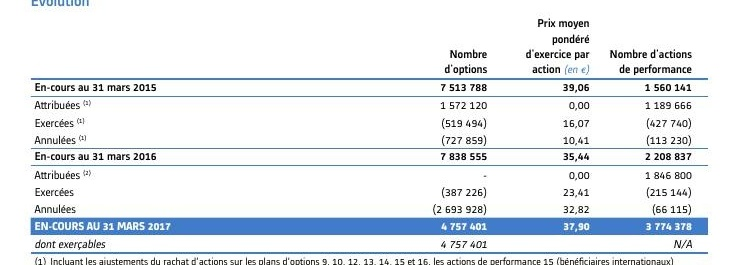table: (0, 0, 729, 265)
